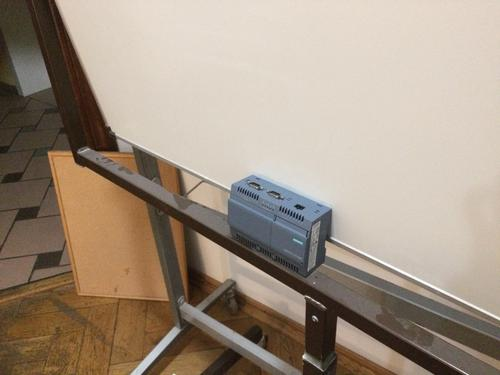iot2000: (226, 173, 333, 280)
